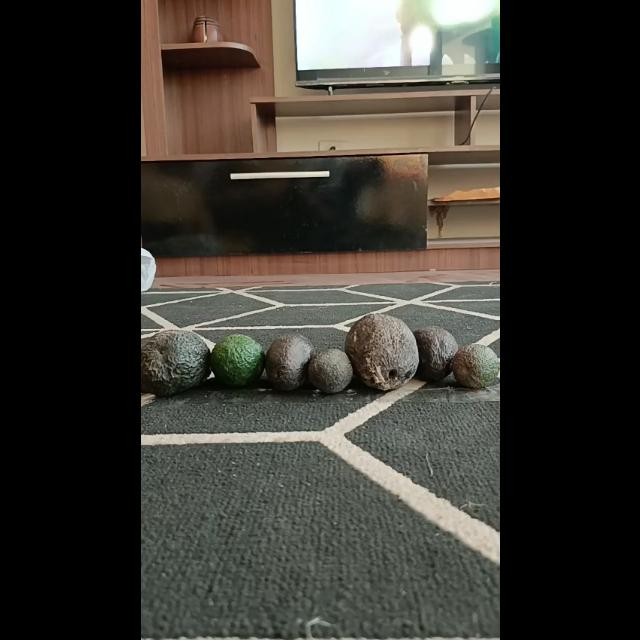Primera: (343, 312, 419, 390), (140, 329, 210, 396)
Segunda: (210, 334, 264, 388), (264, 332, 314, 390), (412, 325, 458, 381)
Tercera: (452, 343, 498, 389), (308, 348, 352, 394)
